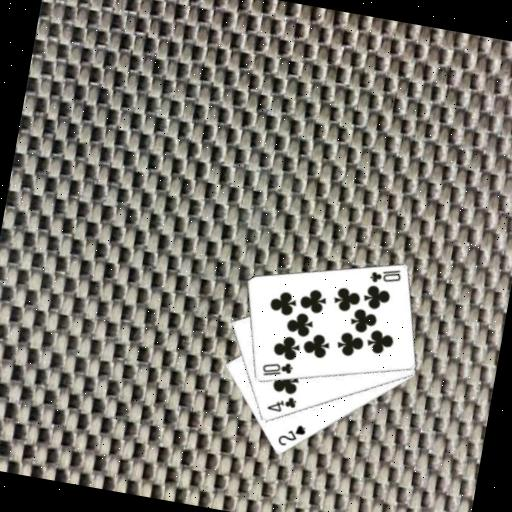10C: (366, 262, 404, 288), (258, 355, 295, 381)
2S: (273, 418, 308, 450)
4C: (263, 389, 299, 416)
